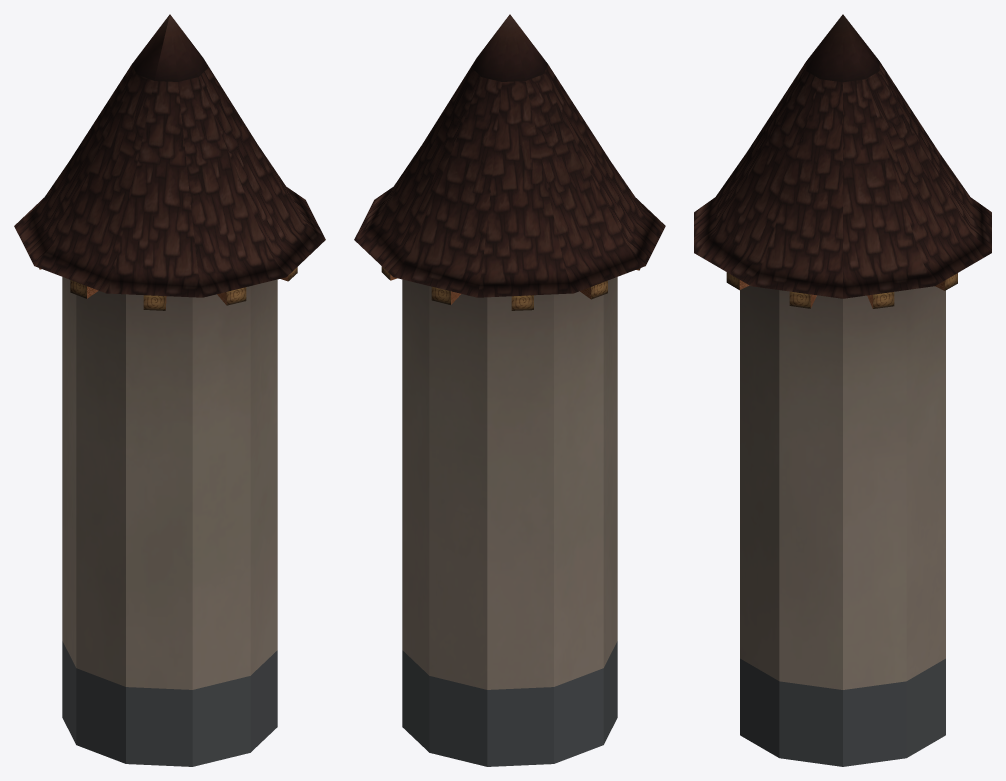
File: fanasty_mod_round_tower_lar_stone.fbx
3 renders of one model, left to right at view 1: azimuth 30°, elevation 25°; view 2: azimuth 150°, elevation 25°; view 3: azimuth 270°, elevation 25°, orthographic.
Parts seen in each view (by area): view 1: round_tower_lar_stone; view 2: round_tower_lar_stone; view 3: round_tower_lar_stone.
Part boxes in pixels (box(x1,y1,x2,y2)): round_tower_lar_stone: box(14, 14, 325, 766); round_tower_lar_stone: box(354, 14, 665, 766); round_tower_lar_stone: box(694, 14, 991, 766).
Bounding box in the file's own units: 5.28 × 13.17 × 5.02.
